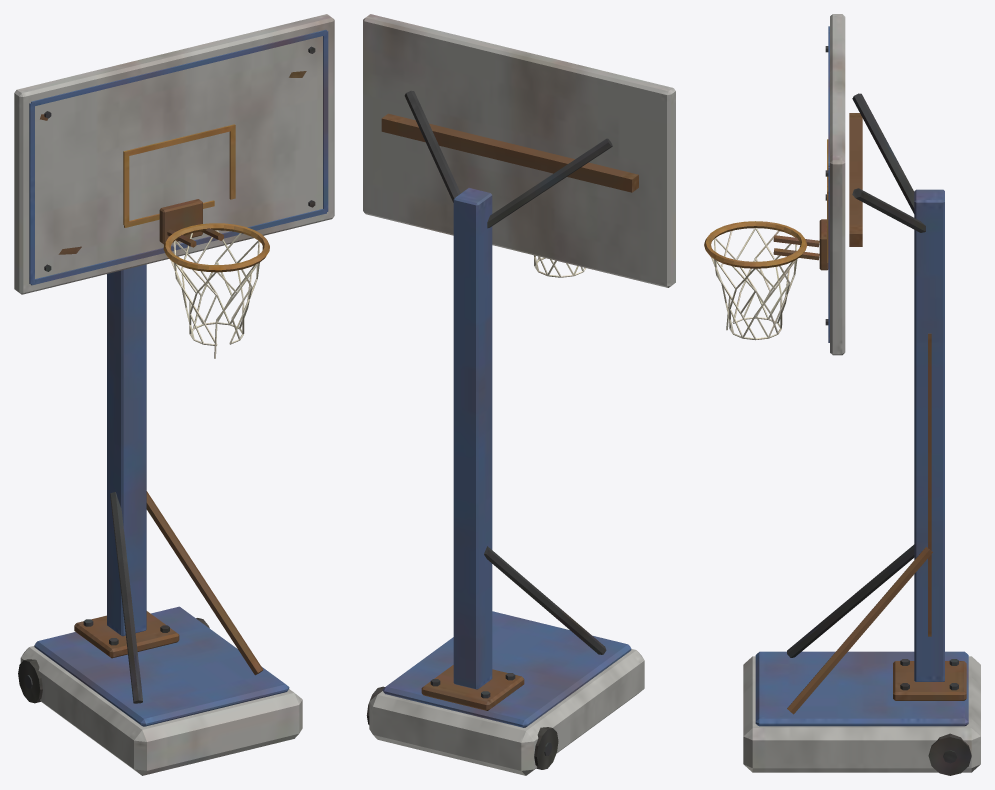
Rendered from SP03_basketball_hoop.glb.
The picture shows the model from 3 angles, left to right: view 1: azimuth 30°, elevation 25°; view 2: azimuth 150°, elevation 25°; view 3: azimuth 270°, elevation 25°; orthographic projection. The views are drawn at different scales.
Parts seen in each view (by area): view 1: Chipped ballast plinth; view 2: Chipped ballast plinth; view 3: Chipped ballast plinth.
Part boxes in pixels (bbox=[...]): Chipped ballast plinth: bbox=[14, 14, 334, 775]; Chipped ballast plinth: bbox=[363, 14, 675, 775]; Chipped ballast plinth: bbox=[704, 14, 980, 775].
Size of the model in its own units: 1.72 by 3.5 by 1.35.
Materials: 8 (8 with a texture image).
